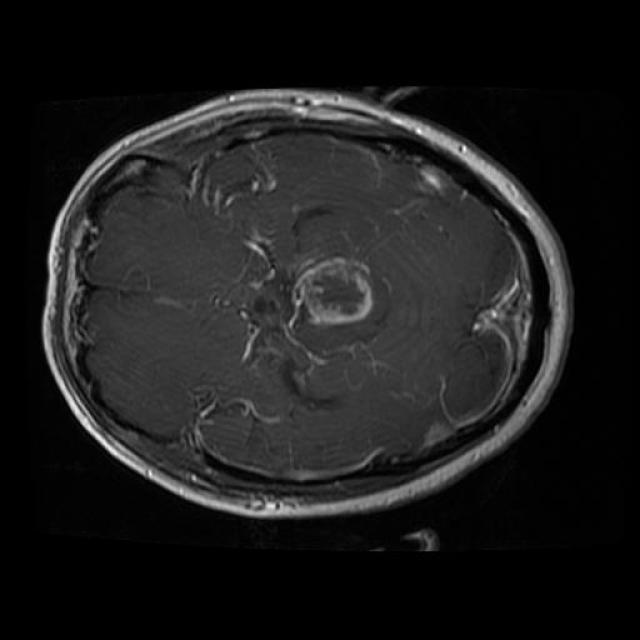Glioma: (294, 256, 372, 326)
